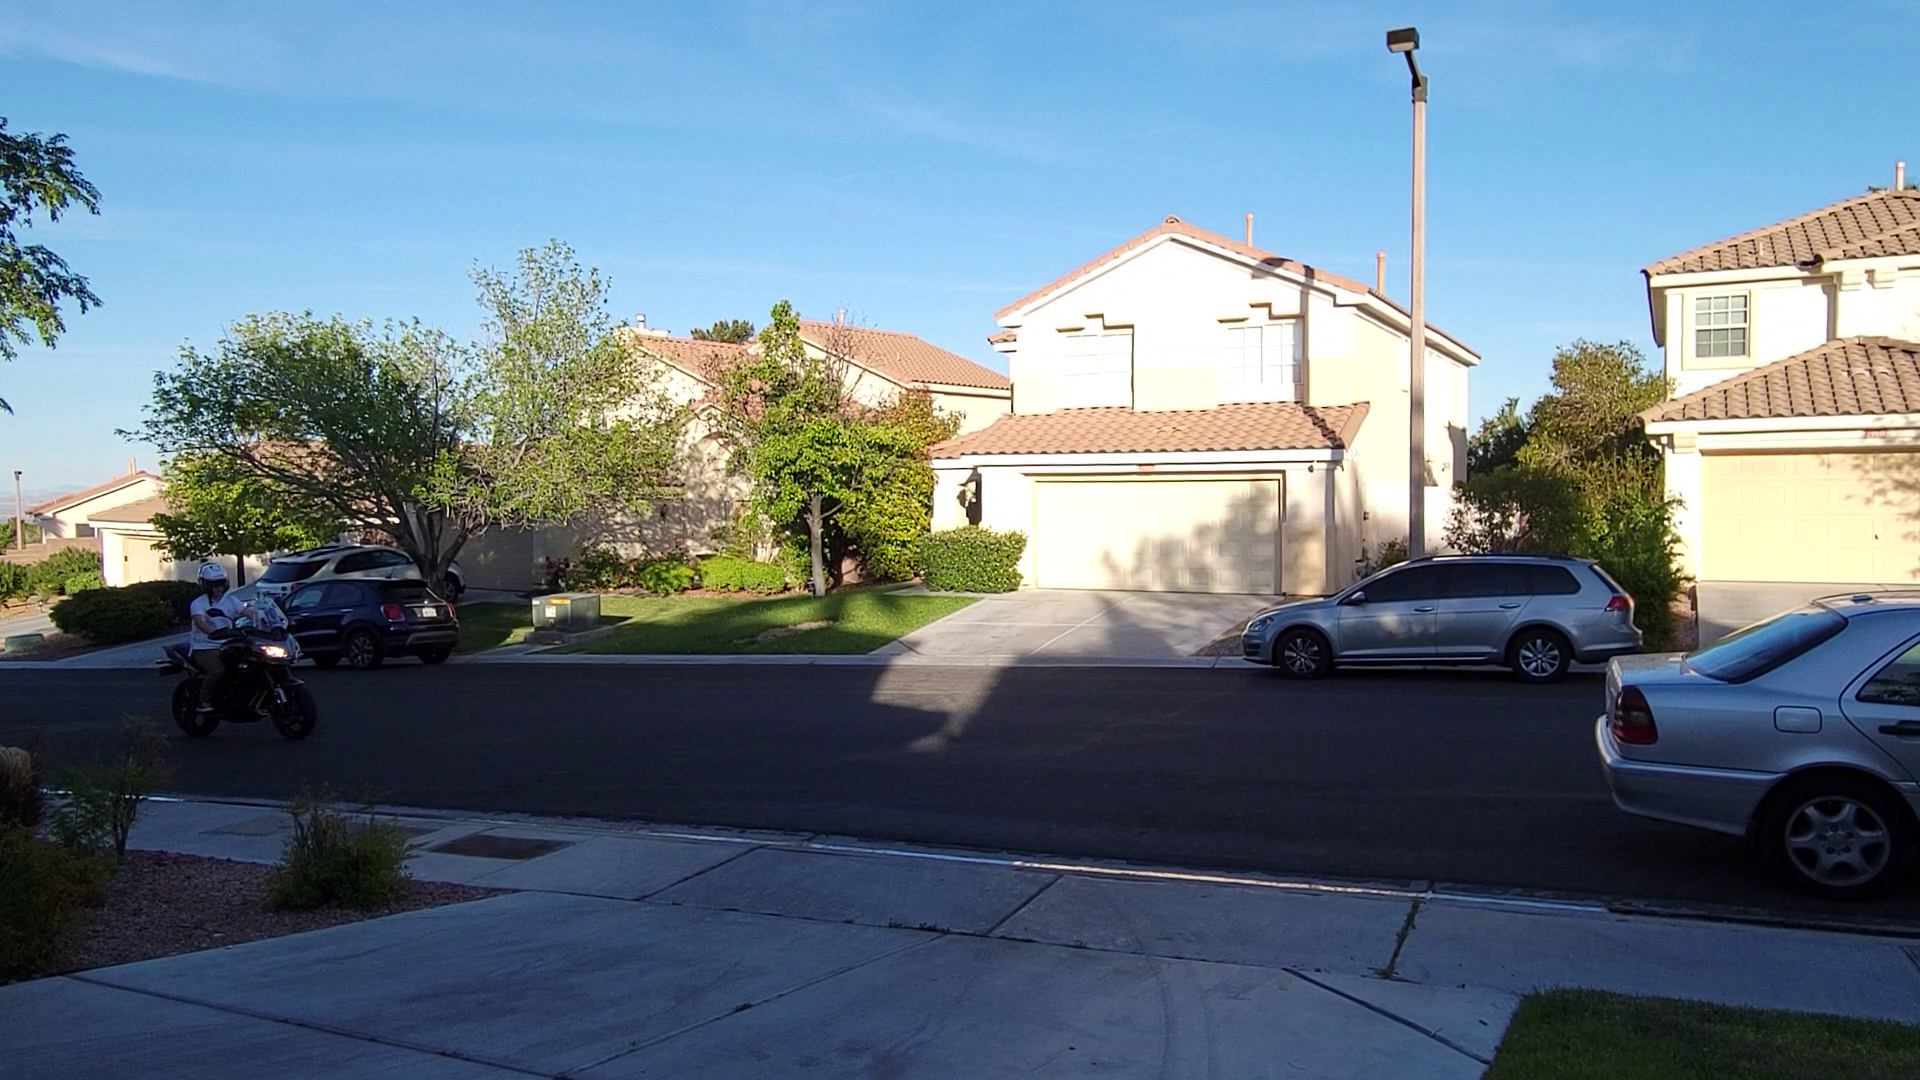my bike: (142, 556, 320, 742)
